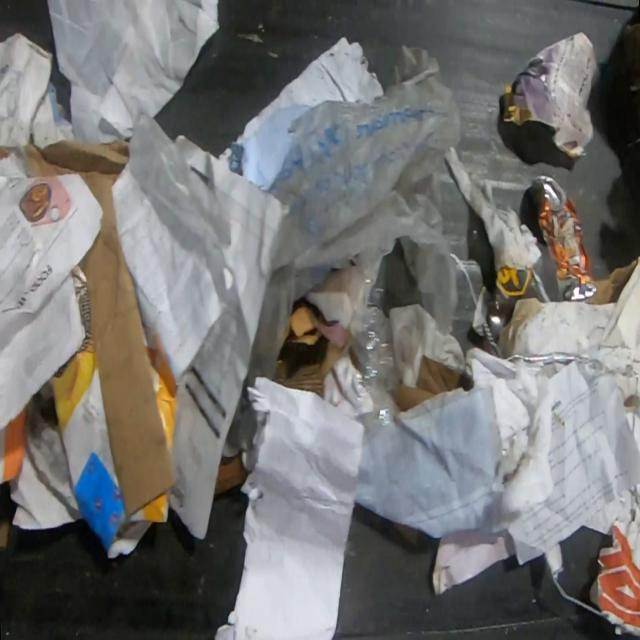cardboard: (24, 138, 178, 517)
metal: (531, 173, 597, 303)
soft_plastic: (224, 42, 462, 472), (354, 276, 396, 428)
